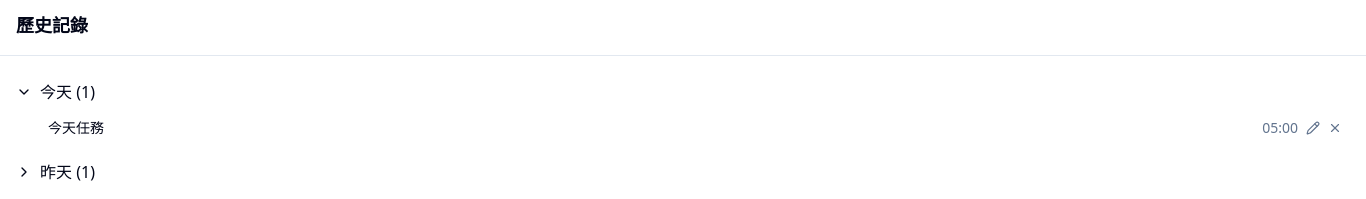
History › 點擊編輯按鈕應該進入編輯模式
This screenshot has width=1366, height=199.
Expected: the text "今天任務" is shown, [48,118,104,137]
找到編輯按鈕並點擊
Click the button named "編輯 今天任務" at point(1313, 128), box [1306,121,1320,135]
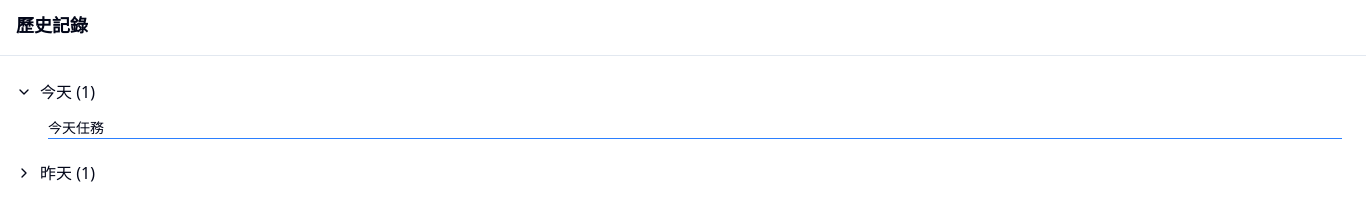
Expected: the field showing "今天任務" is shown, [48,118,1342,139]
